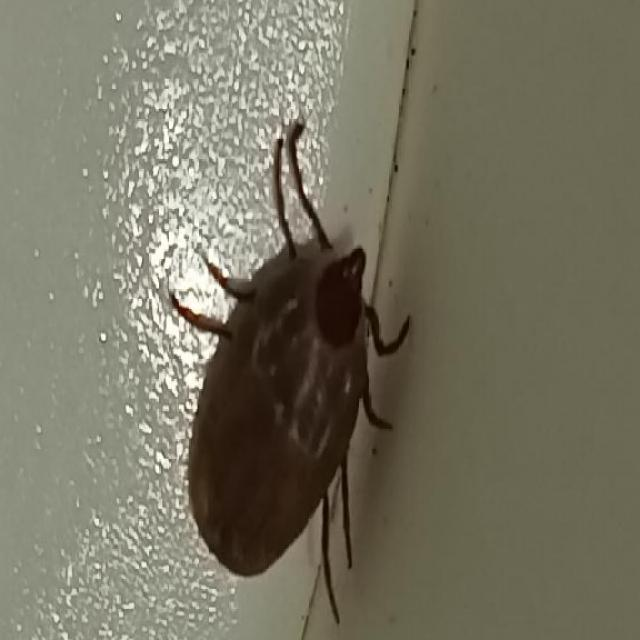Rhipicephalus Sanguineus-F-Fed: (172, 118, 411, 624)
